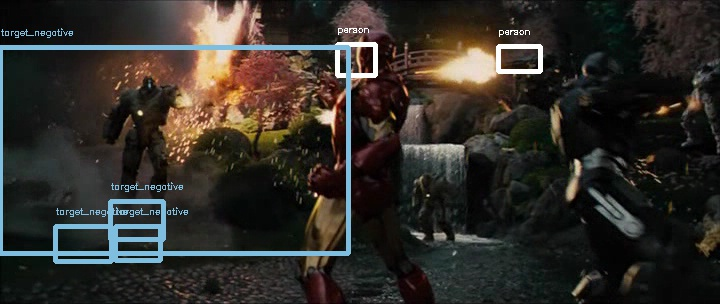person: (348, 28, 396, 80), (347, 28, 395, 80), (349, 28, 397, 80), (348, 27, 396, 79), (348, 29, 396, 81)
target_negative: (134, 162, 405, 281), (469, 214, 623, 281), (286, 178, 553, 206), (608, 229, 673, 257), (191, 288, 334, 294), (76, 280, 80, 293)
